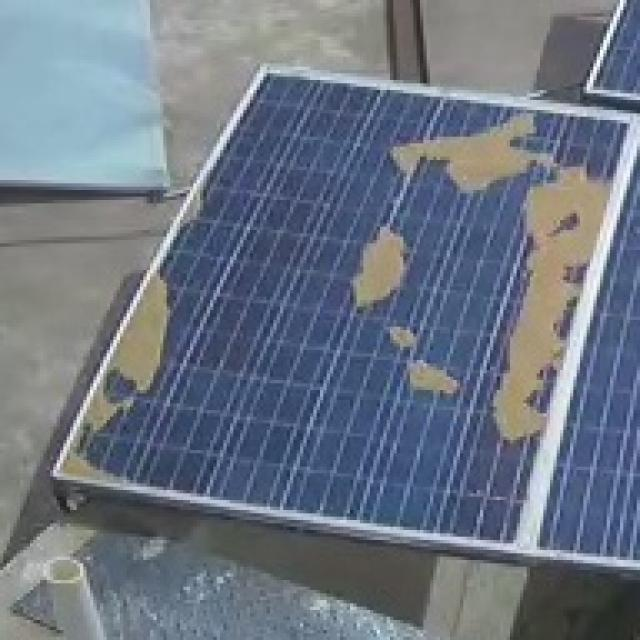faulty: (63, 73, 622, 549)
